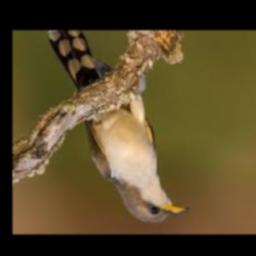Cuckoo: (46, 31, 190, 223)
